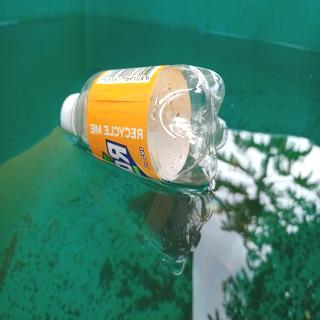bottle: (58, 61, 230, 192)
